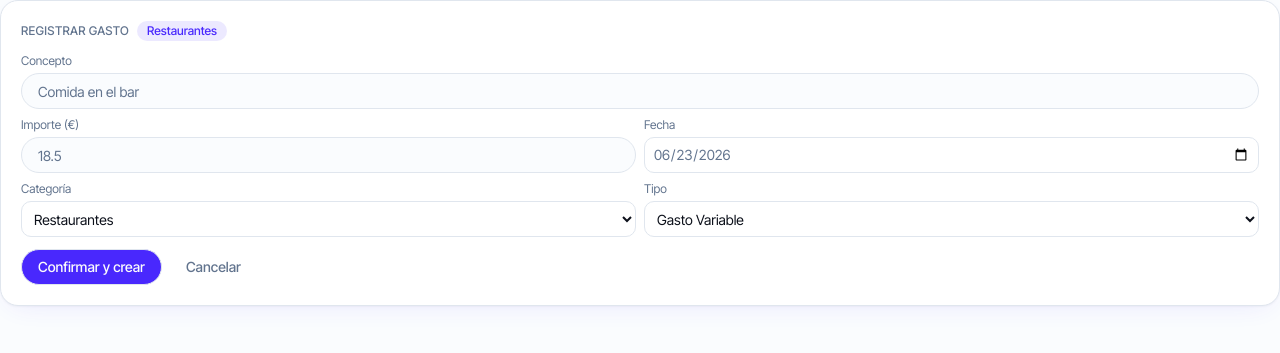
Test case: ActionCard › muestra el error si la creación falla
This screenshot has width=1280, height=353.
Step 1. Click the button "Confirmar y crear" → x=91, y=267, box [21,249,162,285]
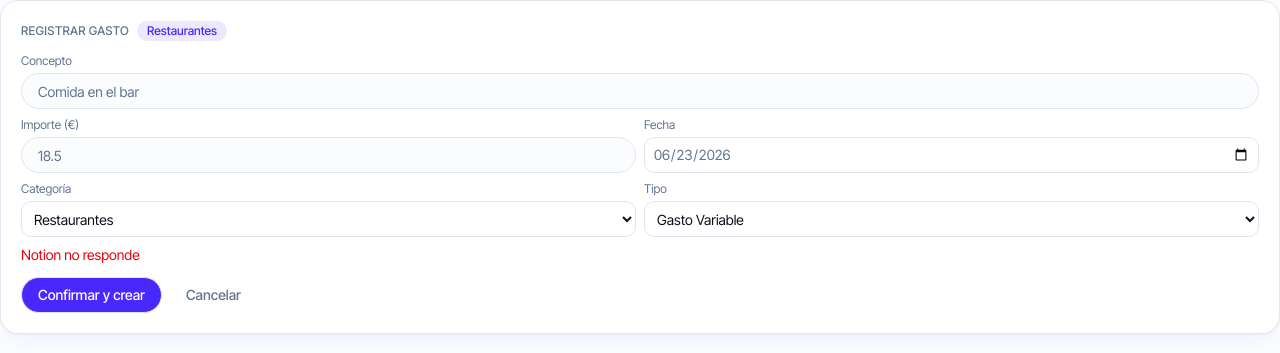
Check: the text "Notion no responde" is shown, box [21,246,140,263]
